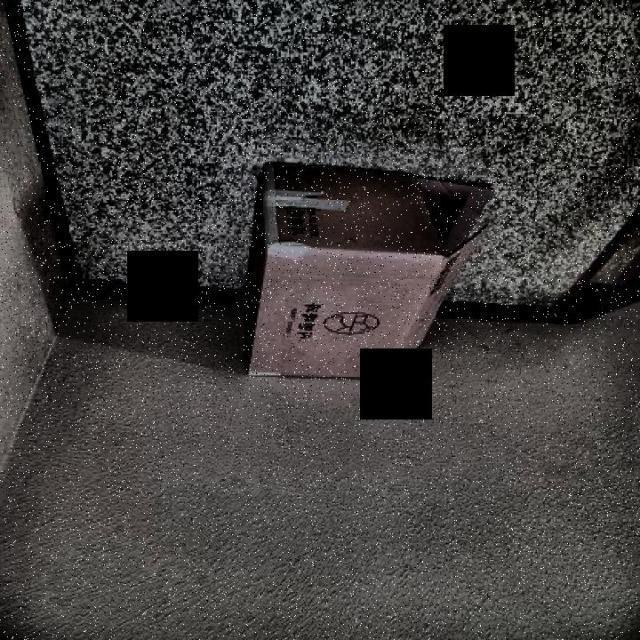box: (239, 159, 506, 392)
